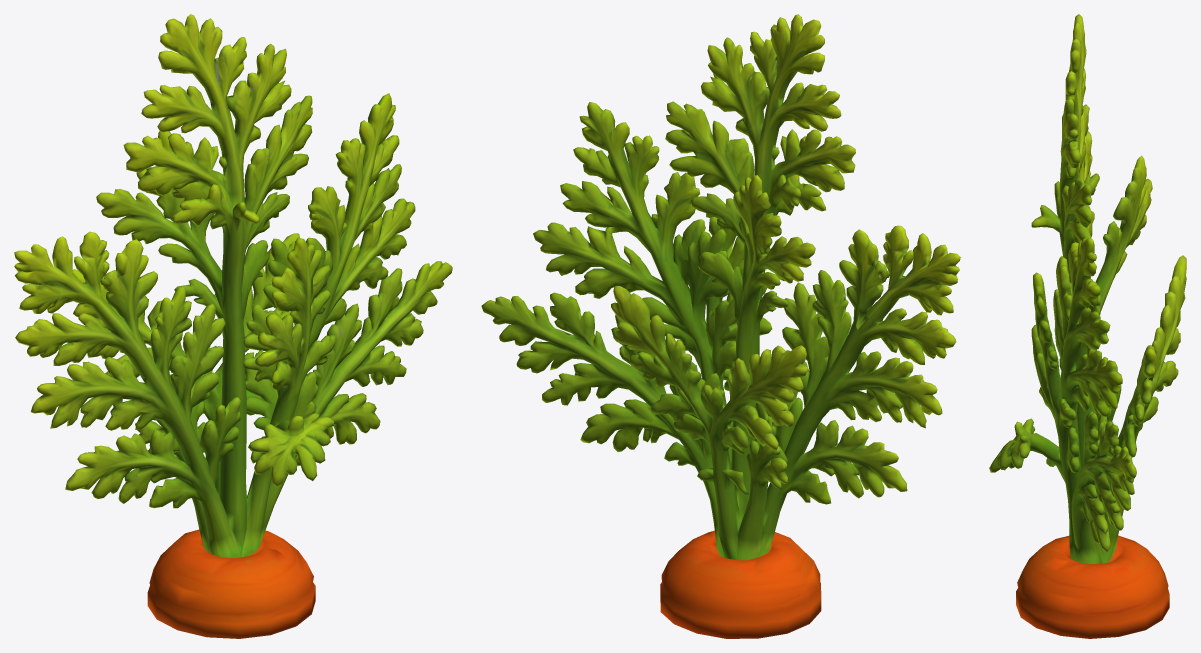
File: crop_carrot.glb
3 renders of one model, left to right at view 1: azimuth 30°, elevation 25°; view 2: azimuth 150°, elevation 25°; view 3: azimuth 270°, elevation 25°, orthographic. The views are drawn at different scales.
Visible parts, largest first — view 1: tripo_node_cf3d39f4-fea3-4b23-b045-d56cd2467890; view 2: tripo_node_cf3d39f4-fea3-4b23-b045-d56cd2467890; view 3: tripo_node_cf3d39f4-fea3-4b23-b045-d56cd2467890.
Boxes of the visible parts, x1,y1,x2,y2 form: tripo_node_cf3d39f4-fea3-4b23-b045-d56cd2467890: [14, 14, 452, 638]; tripo_node_cf3d39f4-fea3-4b23-b045-d56cd2467890: [481, 14, 960, 638]; tripo_node_cf3d39f4-fea3-4b23-b045-d56cd2467890: [989, 14, 1186, 638].
Size of the model in its own units: 0.7791 by 0.9783 by 0.3121.
1 material, 1 textured.
